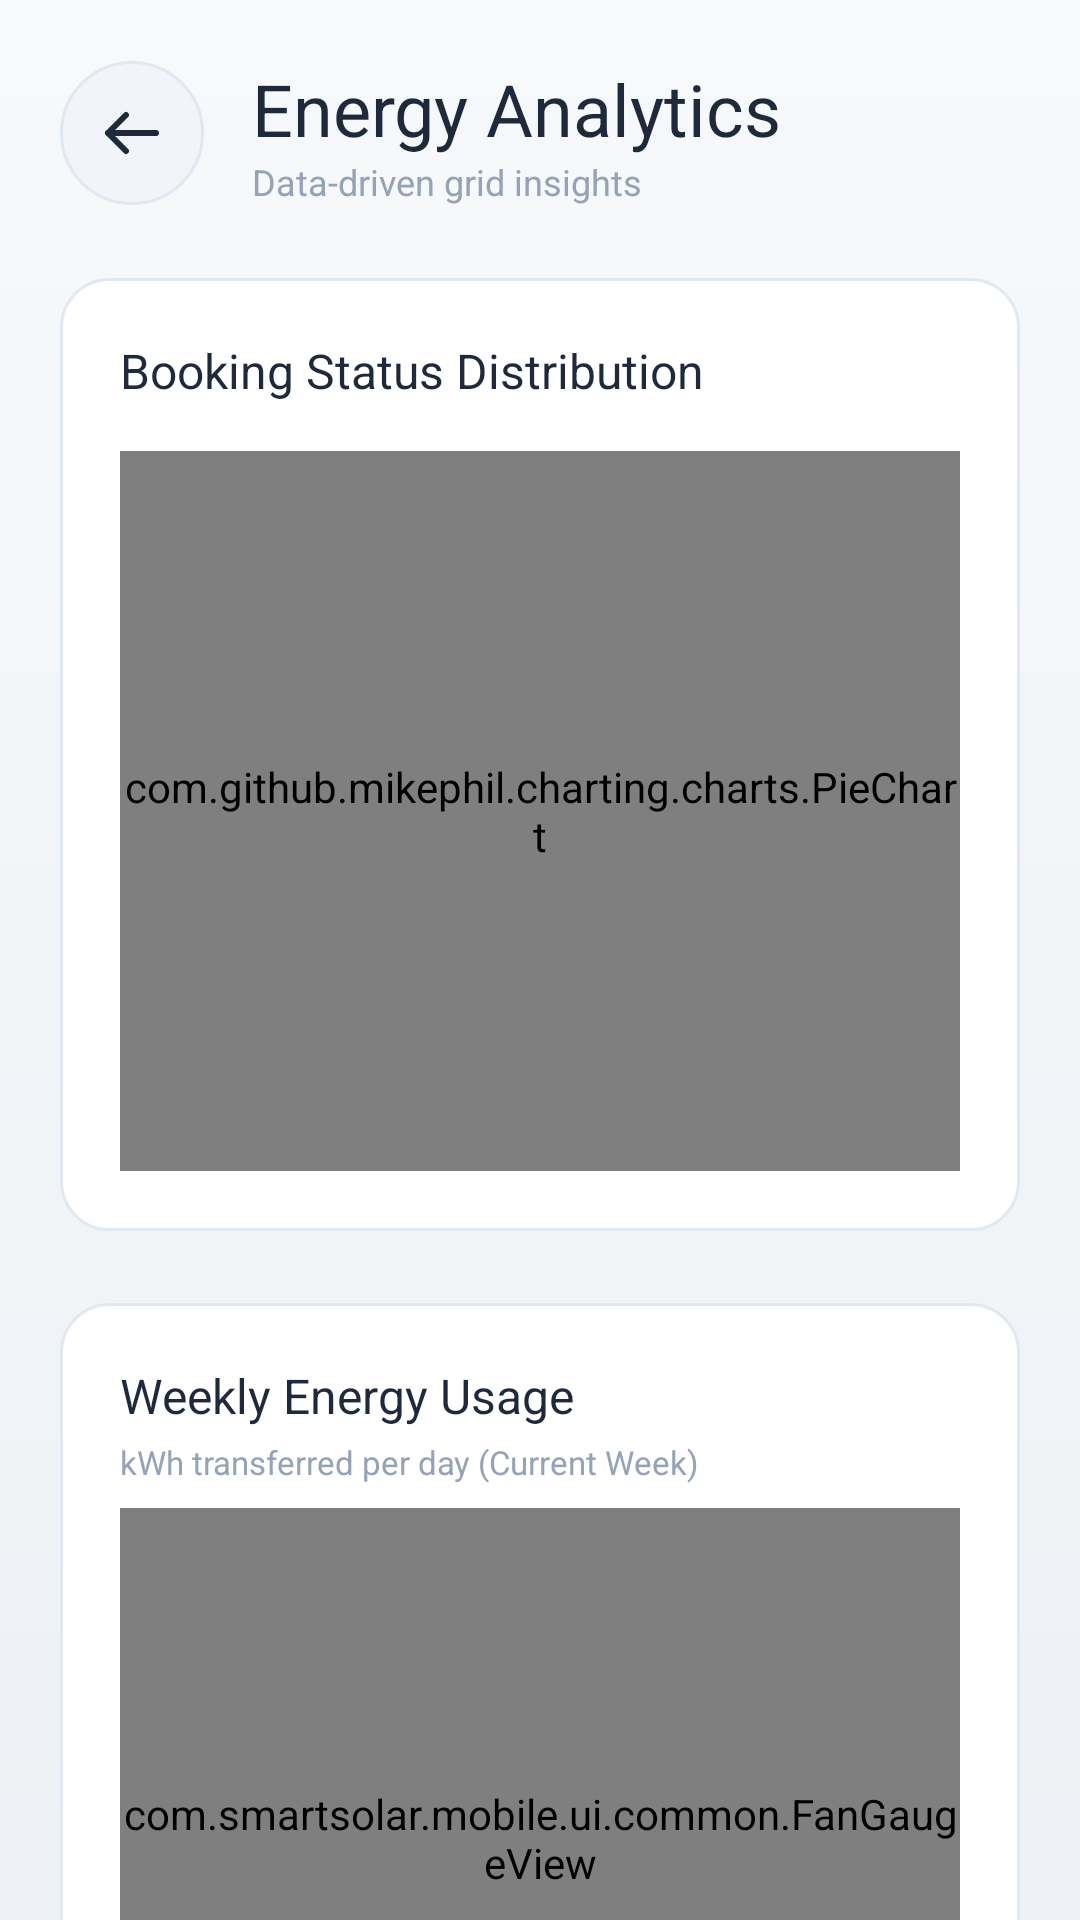

Icons on this 1080x1920 Android screen, each with the point to tap as [x,y]:
Back: [132,133]
